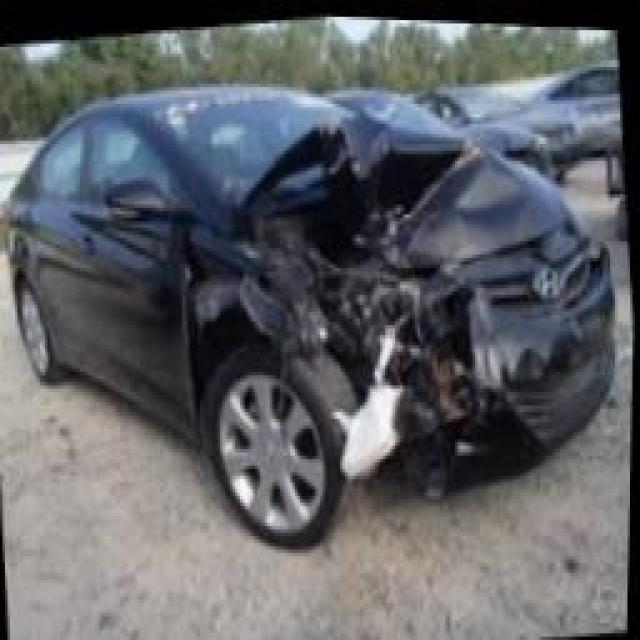Bonnet: (231, 112, 576, 293)
Bumper: (354, 285, 626, 488)
Light: (351, 302, 426, 398)
